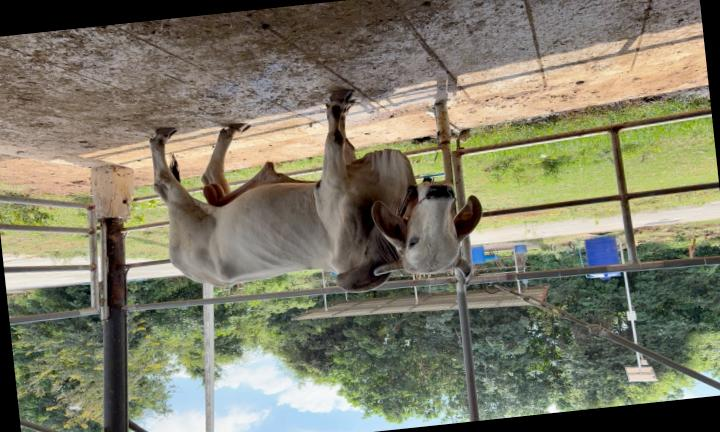Brahman: (150, 91, 482, 292)
